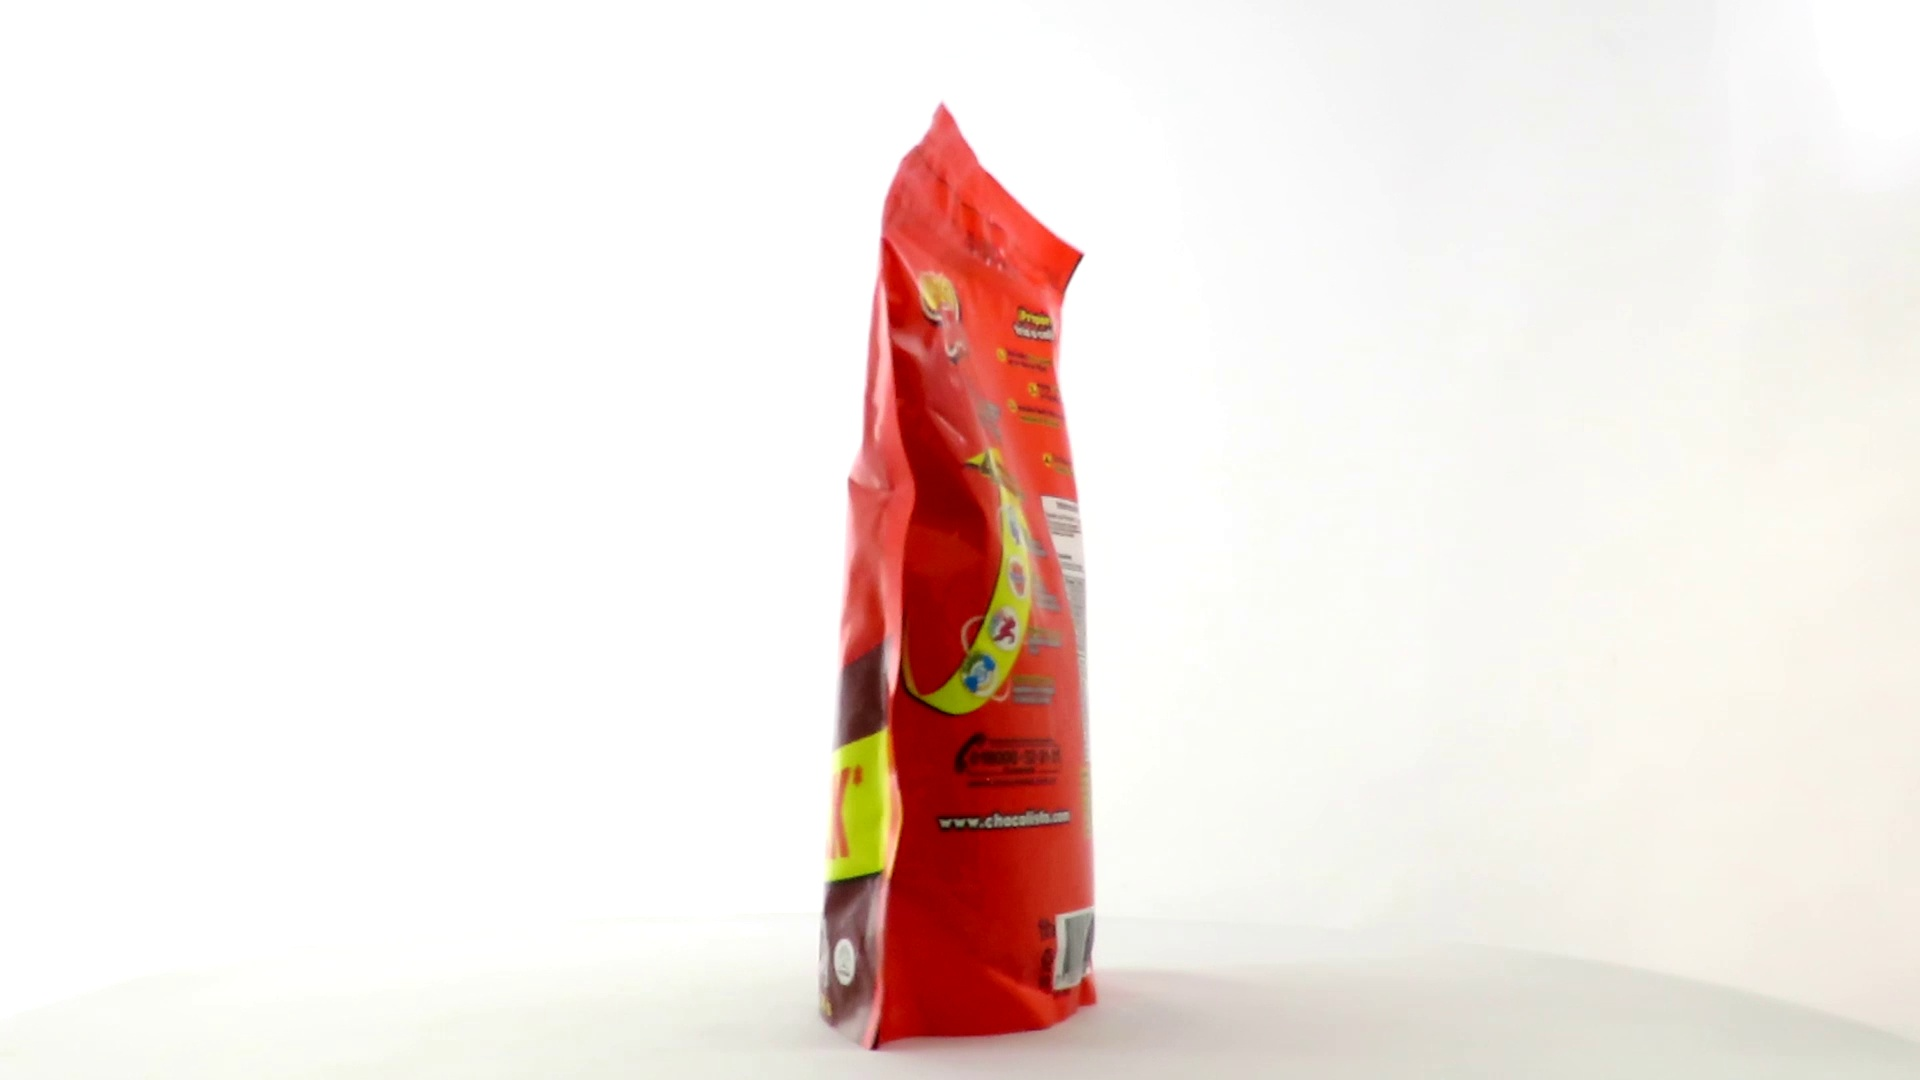COL0170103DYP36000: (812, 98, 1102, 1058)
